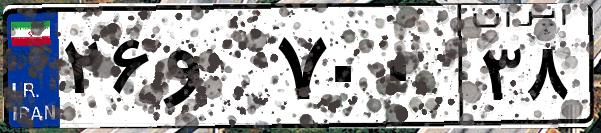0: (385, 28, 445, 110), (330, 28, 385, 110)
2: (57, 26, 110, 100)
3: (475, 38, 525, 113)
6: (110, 28, 158, 98)
7: (270, 28, 330, 110)
8: (525, 38, 570, 115)
و: (158, 20, 270, 120)
